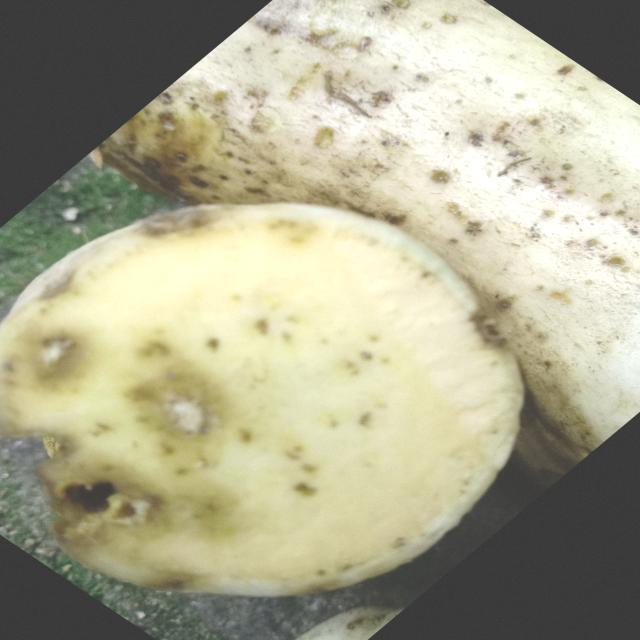Sick Sweet Potato_Tuber Rot: (2, 205, 522, 596)
